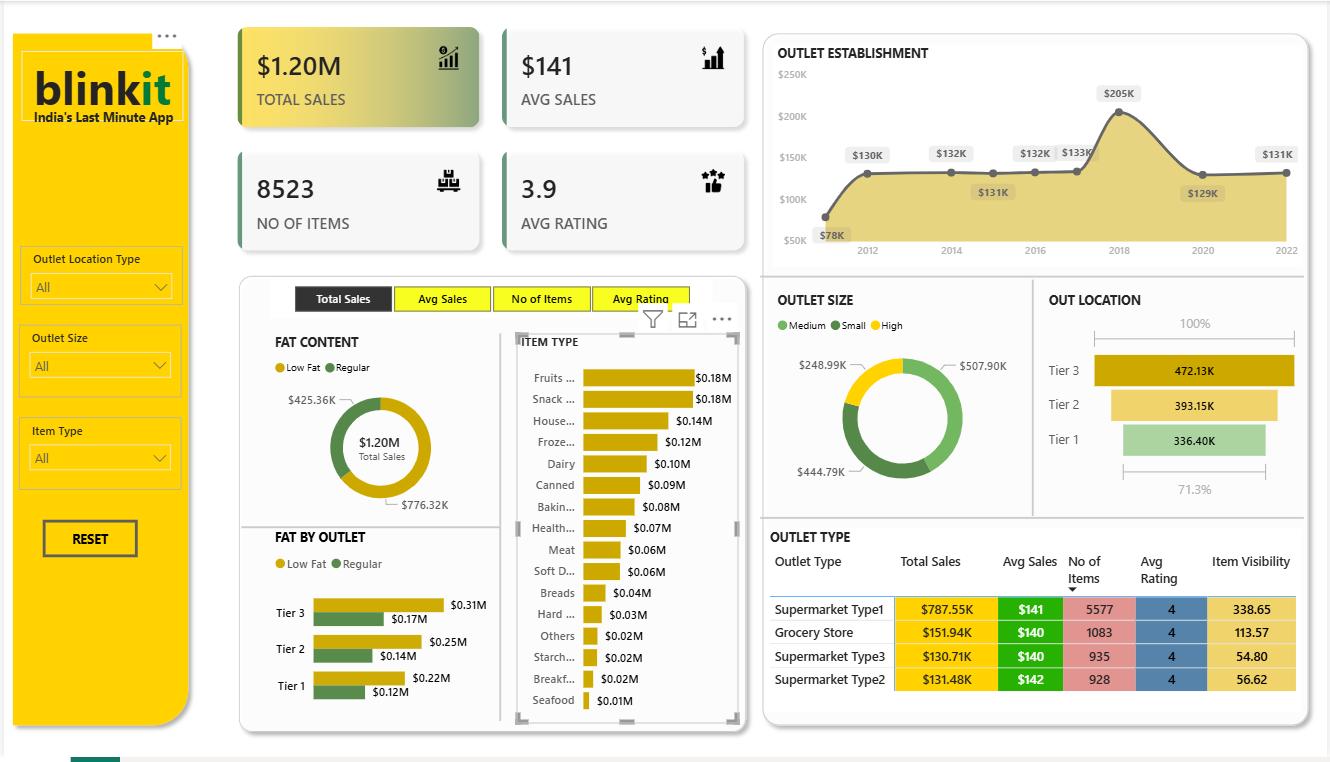

The dashboard page shown, as its layout file describes it:
{"tool":"powerbi","page":{"name":"Page 1","canvas":[1400,800],"ordinal":0},"visuals":[{"type":"shape","box":[0,25.5,204.1,750.4],"z":0},{"type":"textbox","box":[18,52.6,171.5,73.7],"z":1000},{"type":"textbox","box":[27.1,108.3,177.5,37.6],"z":2000},{"type":"cardVisual","fields":{"Data":["BlinkIT Grocery Data.Total Sales","BlinkIT Grocery Data.Avg Sales","BlinkIT Grocery Data.No of Items","BlinkIT Grocery Data.Avg Rating"]},"box":[230.1,10.5,570,270.7],"z":3000},{"type":"shape","box":[239.1,281.3,555,500.9],"z":4000},{"type":"donutChart","title":"FAT CONTENT","fields":{"Y":["BlinkIT Grocery Data.Total Sales"],"Category":["BlinkIT Grocery Data.Item Fat Content"]},"box":[281.7,351.9,234.1,197.1],"z":5000},{"type":"slicer","fields":{"Values":["Metrics.Metrics"]},"box":[281.3,294.8,467.8,40.6],"z":6000},{"type":"cardVisual","fields":{"Data":["BlinkIT Grocery Data.Total Sales"]},"box":[358,440.7,108.3,57.2],"z":7000},{"type":"barChart","title":"ITEM TYPE","fields":{"Y":["BlinkIT Grocery Data.Total Sales"],"Category":["BlinkIT Grocery Data.Item Type"]},"box":[543,352,233.1,412.1],"z":8000},{"type":"clusteredBarChart","title":"FAT BY OUTLET","fields":{"Y":["BlinkIT Grocery Data.Total Sales"],"Category":["BlinkIT Grocery Data.Outlet Location Type"],"Series":["BlinkIT Grocery Data.Item Fat Content"]},"box":[281.3,558,234.6,203.1],"z":9000},{"type":"shape","box":[251.3,539.7,273.8,34.4],"z":10000},{"type":"shape","box":[496,351.9,58.2,410.1],"z":11000},{"type":"shape","box":[794.2,25.6,595.6,750.5],"z":12000},{"type":"lineChart","title":"OUTLET ESTABLISHMENT","fields":{"Category":["BlinkIT Grocery Data.Outlet Establishment Year"],"Y":["BlinkIT Grocery Data.Total Sales"]},"box":[813.5,46.3,560.8,235.5],"z":13000},{"type":"shape","box":[800.3,276.5,575.4,30.4],"z":14000},{"type":"donutChart","title":"OUTLET SIZE","fields":{"Y":["BlinkIT Grocery Data.Total Sales"],"Category":["BlinkIT Grocery Data.Outlet Size"]},"box":[813.5,306.9,275.1,224.9],"z":15000},{"type":"shape","box":[1076.7,295,23.8,250],"z":16000},{"type":"funnel","title":"OUT LOCATION","fields":{"Category":["BlinkIT Grocery Data.Outlet Location Type"],"Y":["Sum(BlinkIT Grocery Data.Sales)"]},"box":[1100.5,306.9,275.1,224.9],"z":17000},{"type":"shape","box":[800.3,531.7,575.4,30.4],"z":18000},{"type":"pivotTable","title":"OUTLET TYPE","fields":{"Values":["BlinkIT Grocery Data.Total Sales","BlinkIT Grocery Data.Avg Sales","BlinkIT Grocery Data.No of Items","BlinkIT Grocery Data.Avg Rating","Sum(BlinkIT Grocery Data.Item Visibility)"],"Rows":["BlinkIT Grocery Data.Outlet Type"]},"box":[805.6,558.2,567.5,194.4],"z":19000},{"type":"slicer","fields":{"Values":["BlinkIT Grocery Data.Outlet Location Type"]},"box":[17.2,259.3,172,62.2],"z":20000},{"type":"slicer","fields":{"Values":["BlinkIT Grocery Data.Outlet Size"]},"box":[15.9,342.6,172,76.7],"z":21000},{"type":"slicer","fields":{"Values":["BlinkIT Grocery Data.Item Type"]},"box":[15.9,440.5,172,76.7],"z":22000},{"type":"actionButton","box":[41,548.9,100.5,39.7],"z":23000}]}

Visuals, with their boxes in screenshot pixels (x1, y1, x2, y2), scaled from the page's 1400x800 canvas onto the 1330x762 screenshot:
shape: l=0, t=24, r=194, b=739
textbox: l=17, t=50, r=180, b=120
textbox: l=26, t=103, r=194, b=139
cardVisual - BlinkIT Grocery Data.Total Sales x BlinkIT Grocery Data.Avg Sales: l=219, t=10, r=760, b=268
shape: l=227, t=268, r=754, b=745
"FAT CONTENT" donutChart: l=268, t=335, r=490, b=523
slicer - Metrics.Metrics: l=267, t=281, r=712, b=319
cardVisual - BlinkIT Grocery Data.Total Sales: l=340, t=420, r=443, b=474
"ITEM TYPE" barChart: l=516, t=335, r=737, b=728
"FAT BY OUTLET" clusteredBarChart: l=267, t=531, r=490, b=725
shape: l=239, t=514, r=499, b=547
shape: l=471, t=335, r=526, b=726
shape: l=754, t=24, r=1320, b=739
"OUTLET ESTABLISHMENT" lineChart: l=773, t=44, r=1306, b=268
shape: l=760, t=263, r=1307, b=292
"OUTLET SIZE" donutChart: l=773, t=292, r=1034, b=507
shape: l=1023, t=281, r=1045, b=519
"OUT LOCATION" funnel: l=1045, t=292, r=1307, b=507
shape: l=760, t=506, r=1307, b=535
"OUTLET TYPE" pivotTable: l=765, t=532, r=1304, b=717
slicer - BlinkIT Grocery Data.Outlet Location Type: l=16, t=247, r=180, b=306
slicer - BlinkIT Grocery Data.Outlet Size: l=15, t=326, r=179, b=399
slicer - BlinkIT Grocery Data.Item Type: l=15, t=420, r=179, b=493
actionButton: l=39, t=523, r=134, b=561
